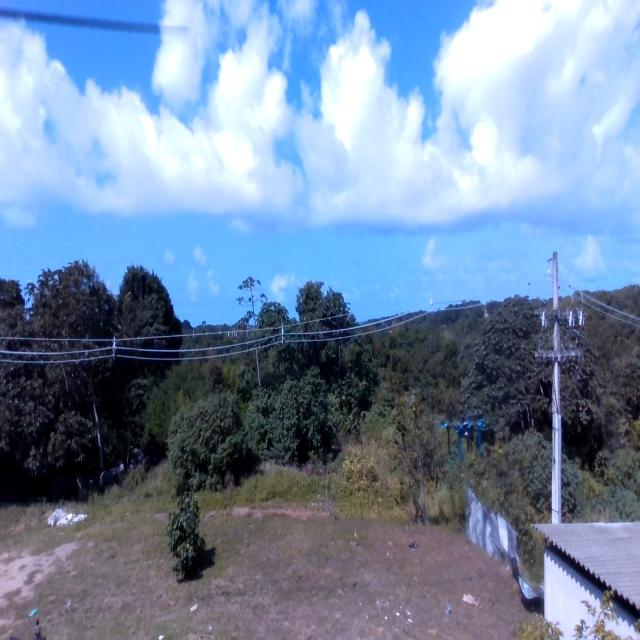-uav-: (432, 400, 502, 468)
